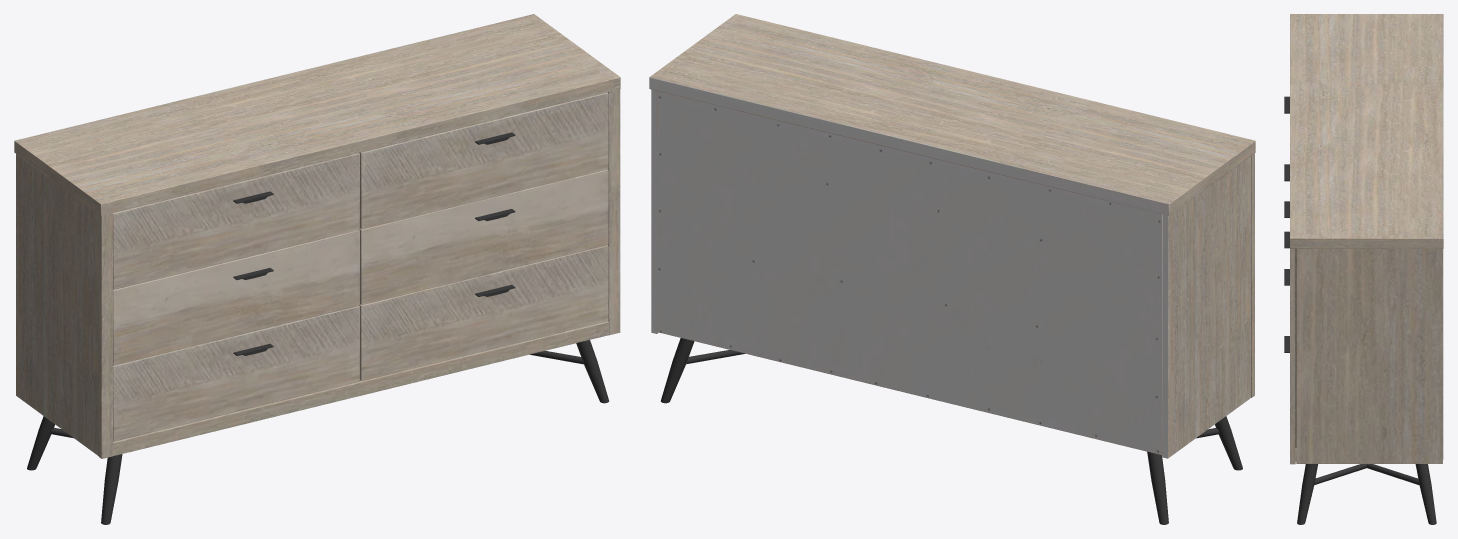
The model's file is abo-B07FM83Z21.glb.
3 views of the same model, side by side, from view 1: azimuth 30°, elevation 25°; view 2: azimuth 150°, elevation 25°; view 3: azimuth 270°, elevation 25° (orthographic). The views are drawn at different scales.
Bounding box in the file's own units: 1.52 × 0.914 × 0.457.
Materials: 1 (1 with a texture image).
